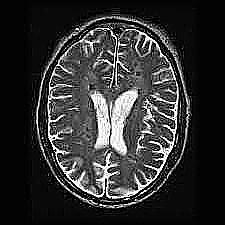Normal_Brain: (27, 5, 214, 225)
